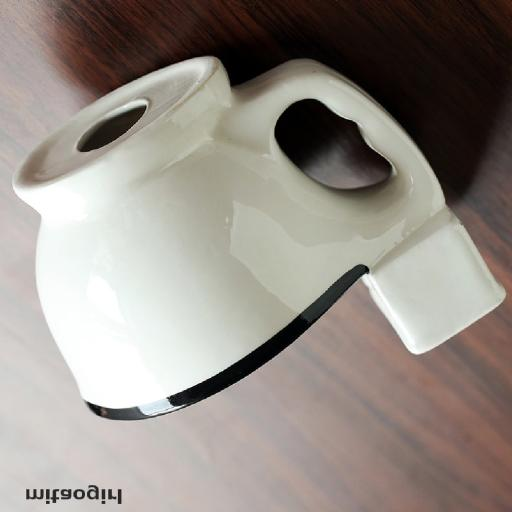cup: (14, 57, 504, 420)
